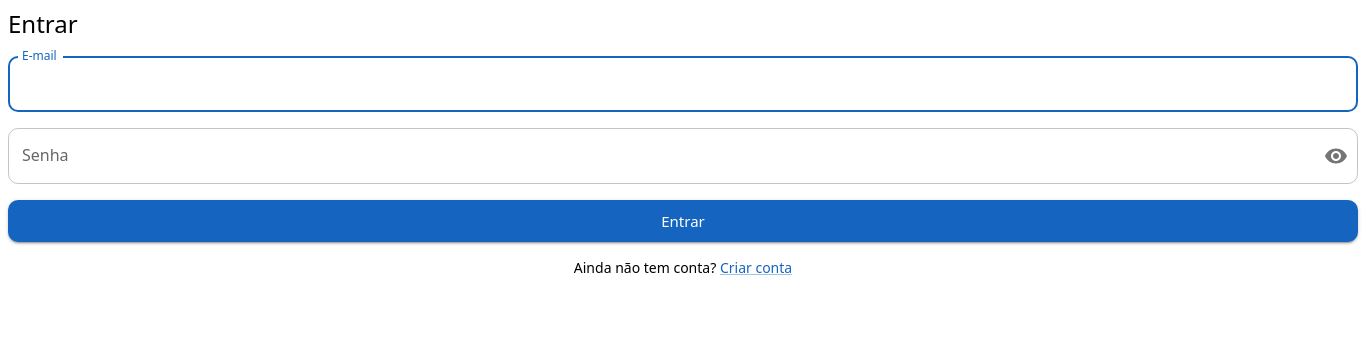
Test: Login: envio e senha › o olho mostra a senha e ela volta a ficar oculta ao enviar
The image size is (1366, 356).
Type "ana@example.com" into the field labelled "E-mail" at [683, 84], box top-left (8, 56), bottom-right (1358, 112)
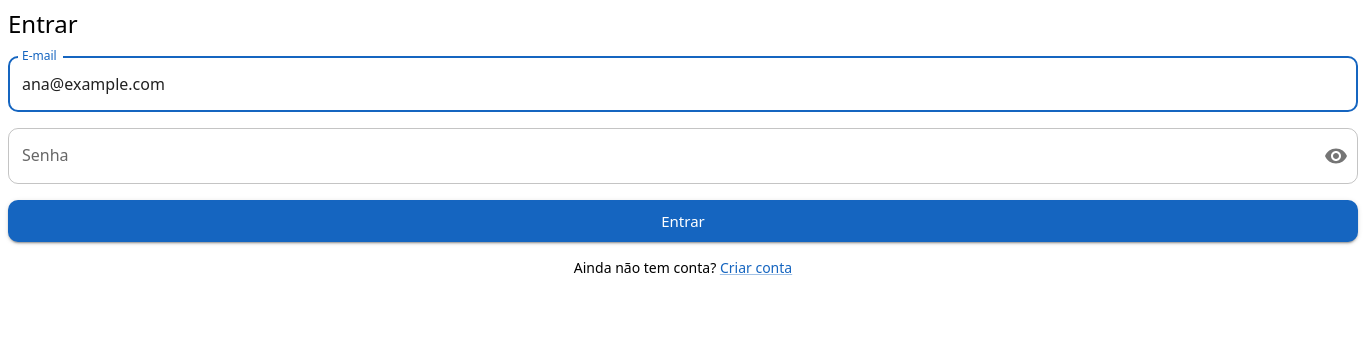
Type "errada" into the password field labelled "Senha" at [658, 156], box top-left (8, 128), bottom-right (1308, 184)
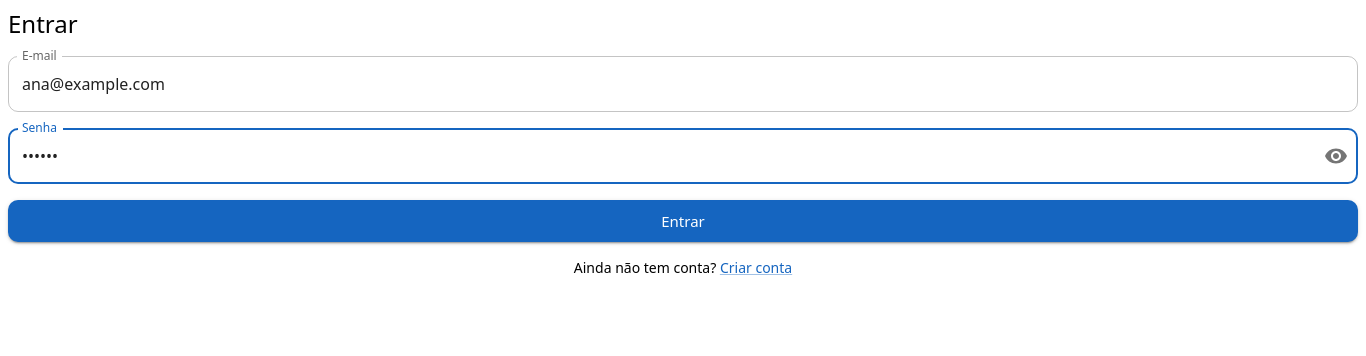
Click the button named "Mostrar senha" at [1336, 156], box top-left (1316, 136), bottom-right (1356, 176)
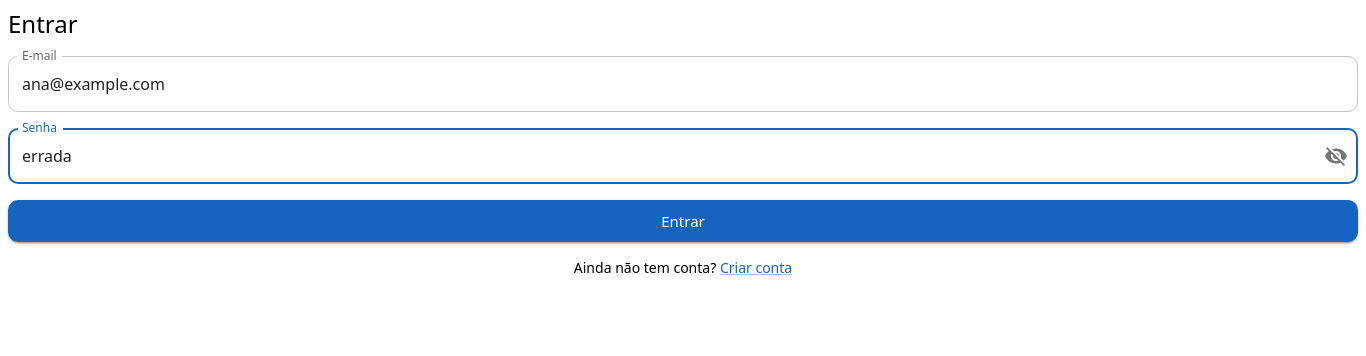
expect the field labelled "Senha" shows its text: met, box top-left (8, 128), bottom-right (1308, 184)
Click the button "Entrar" at [683, 221], box top-left (8, 200), bottom-right (1358, 242)
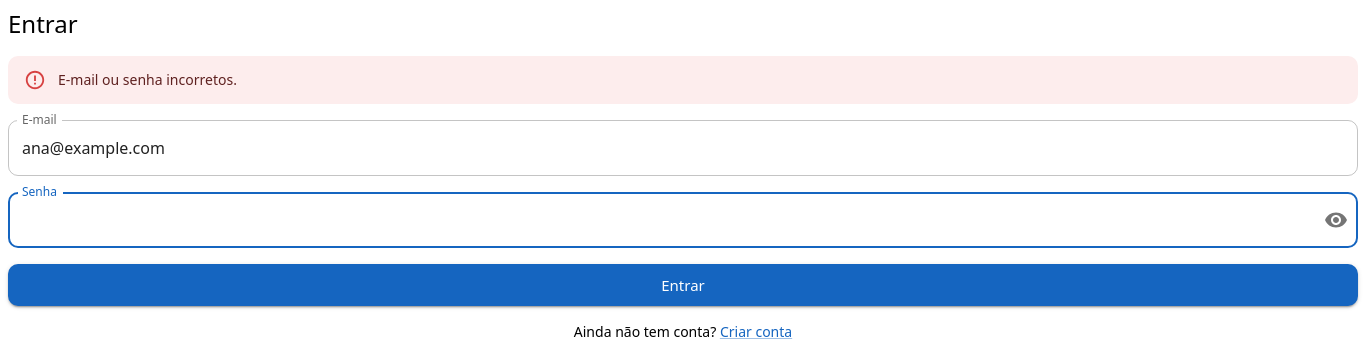
expect the text "E-mail ou senha incorretos." is shown: met, box top-left (58, 70), bottom-right (237, 89)
